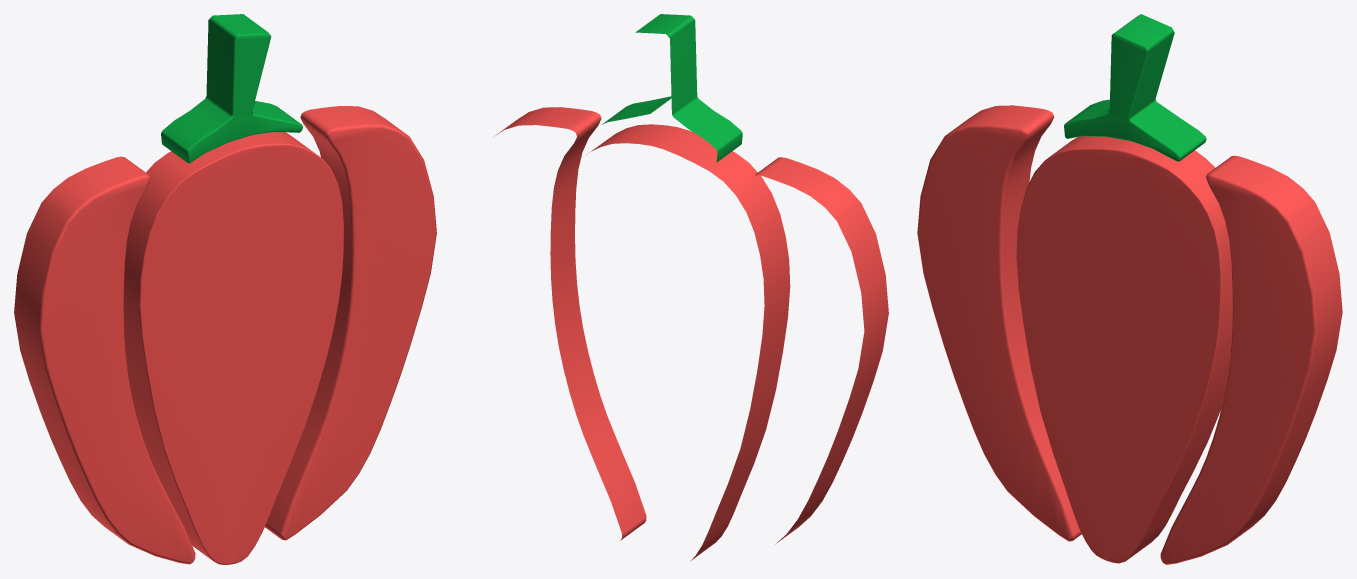
File: Store_19_Pepper_Sign_1.glb
3 views of the same model, side by side, from view 1: azimuth 30°, elevation 25°; view 2: azimuth 150°, elevation 25°; view 3: azimuth 330°, elevation 25° (orthographic).
Parts seen in each view (by area): view 1: Store_19_Pepper_Sign_1; view 2: Store_19_Pepper_Sign_1; view 3: Store_19_Pepper_Sign_1.
Boxes of the visible parts, x1,y1,x2,y2 form: Store_19_Pepper_Sign_1: [14, 14, 436, 564]; Store_19_Pepper_Sign_1: [495, 14, 888, 560]; Store_19_Pepper_Sign_1: [917, 14, 1342, 564].
Bounding box in the file's own units: 0.4123 × 0.5223 × 0.0478.
1 material, 1 textured.
